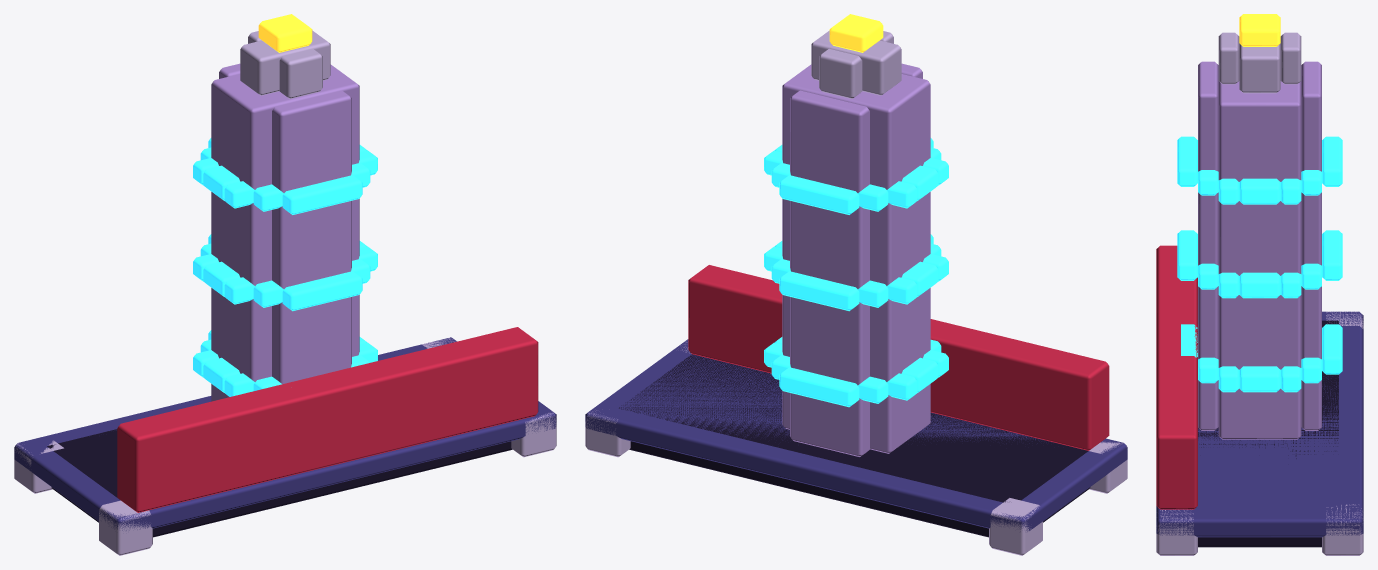
The model's file is capacitor.lg.glb.
3 views of the same model, side by side, from view 1: azimuth 30°, elevation 25°; view 2: azimuth 150°, elevation 25°; view 3: azimuth 270°, elevation 25° (orthographic). The views are drawn at different scales.
Parts seen in each view (by area): view 1: capacitor.lg; view 2: capacitor.lg; view 3: capacitor.lg.
Boxes of the visible parts, left/top/right/bottom form: capacitor.lg: left=14, top=14, right=556, bottom=555; capacitor.lg: left=585, top=14, right=1127, bottom=555; capacitor.lg: left=1156, top=14, right=1363, bottom=555.
Bounding box in the file's own units: 1.5 × 1.44 × 0.625.
